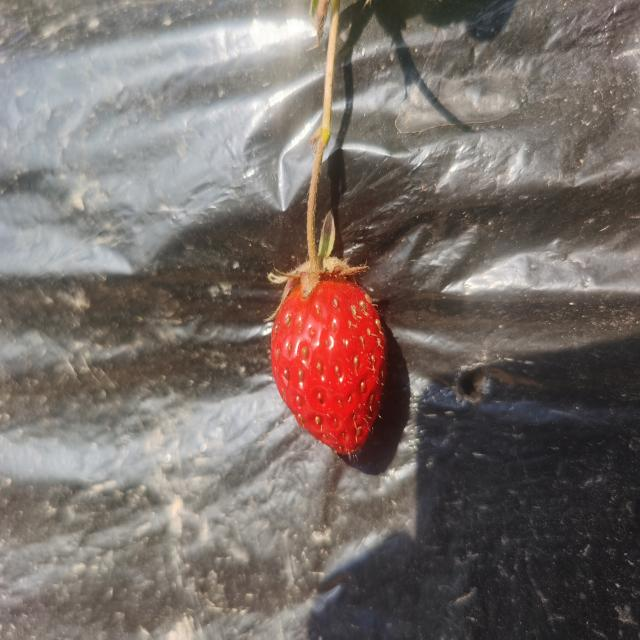stem: (307, 180, 320, 275)
strawberry: (270, 263, 387, 456)
